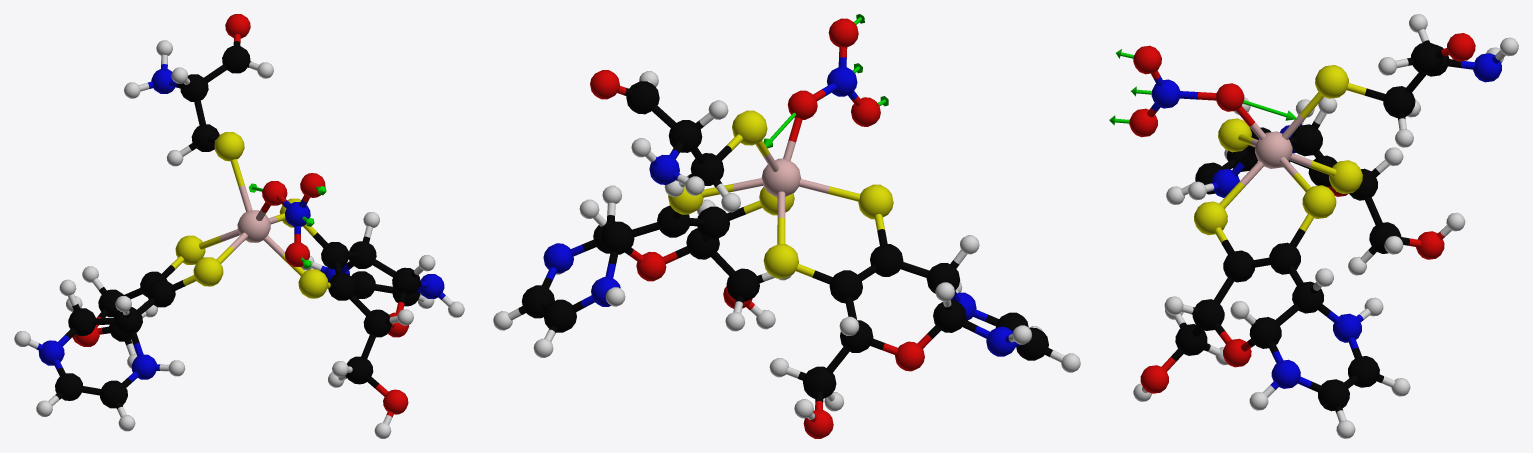
File: napal_0h2o_ts.glb
The picture shows the model from 3 angles, left to right: view 1: azimuth 30°, elevation 25°; view 2: azimuth 150°, elevation 25°; view 3: azimuth 270°, elevation 25°; orthographic projection. The views are drawn at different scales.
Parts seen in each view (by area): view 1: frame_18; view 2: frame_18; view 3: frame_18.
Boxes of the visible parts, x1,y1,x2,y2 form: frame_18: (14,14,464,438); frame_18: (493,14,1080,438); frame_18: (1109,14,1518,438).
Size of the model in its own units: 1.55 by 1.07 by 1.09.
